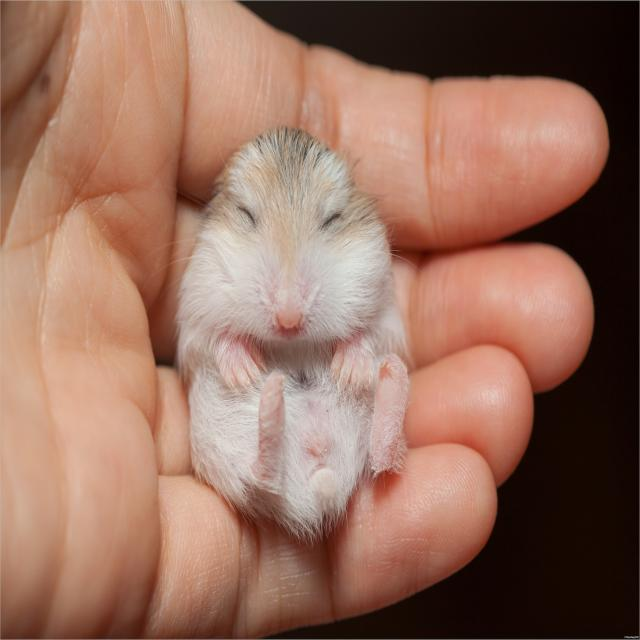hamster: (175, 126, 411, 543)
